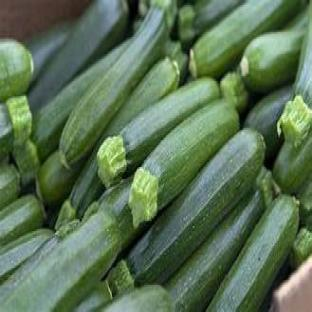Zucchini: (127, 130, 264, 285), (129, 100, 238, 227), (98, 78, 220, 185), (0, 211, 119, 311), (166, 191, 264, 311), (32, 41, 128, 161), (207, 196, 298, 311), (274, 19, 311, 193), (0, 221, 78, 301), (102, 58, 179, 139), (240, 29, 304, 92), (245, 87, 293, 158), (99, 178, 143, 251), (26, 24, 72, 84), (0, 230, 52, 282), (37, 151, 81, 207), (274, 130, 311, 193), (0, 196, 43, 246), (0, 39, 33, 101), (0, 97, 32, 155), (101, 286, 174, 311), (277, 95, 311, 148), (294, 6, 311, 107), (13, 140, 39, 185), (221, 73, 249, 112), (74, 282, 111, 311), (107, 260, 134, 298), (166, 41, 187, 84), (0, 164, 19, 210), (296, 174, 311, 231), (291, 228, 311, 268), (0, 105, 14, 158), (286, 7, 308, 30)
